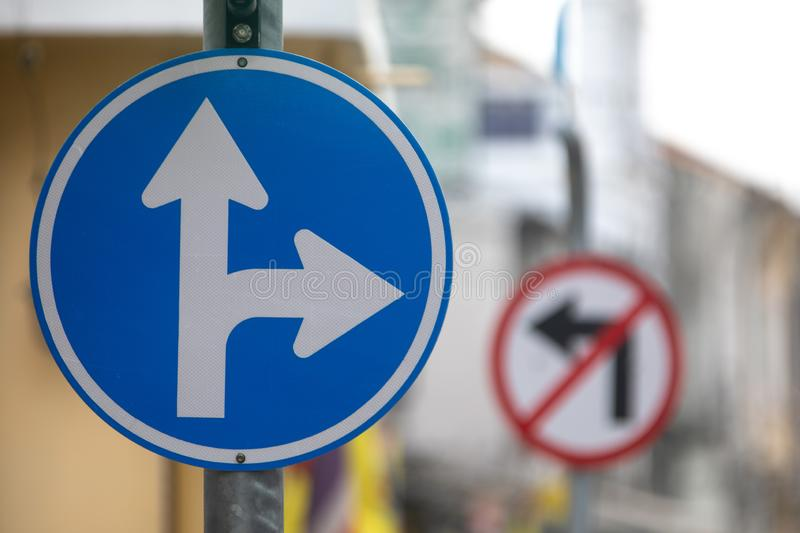ileri_veya_saga: (25, 46, 459, 472)
sola_girilmez: (481, 242, 691, 462)
